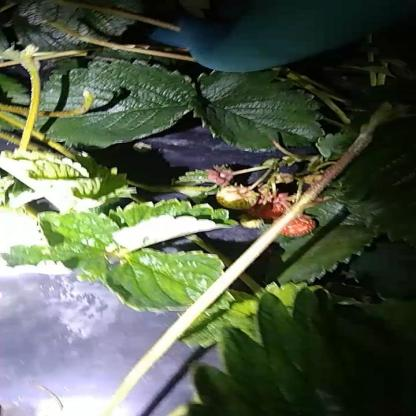ripe: (246, 192, 290, 220), (273, 214, 317, 239)
unripe: (218, 186, 258, 209)
